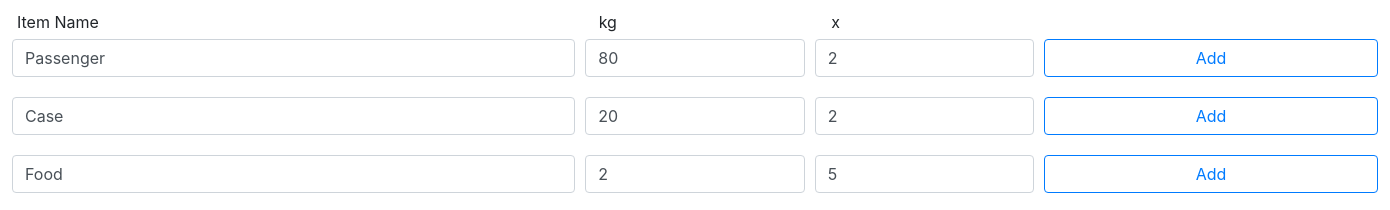
it: Load Adder › Marks the load as added in the list when its added, even if you change its name
Replace the text in the 2nd field with placeholder "Item Name" with "Bags": (294, 116) [12,97,575,135]
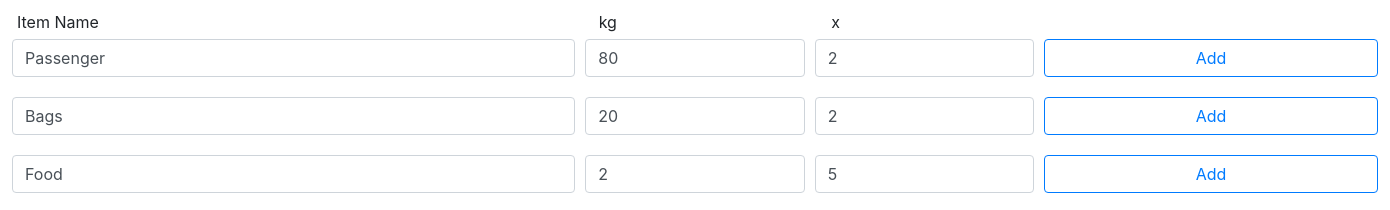
Click the 2nd button with test id "btn-load-off": click(1211, 116) [1044,97,1378,135]
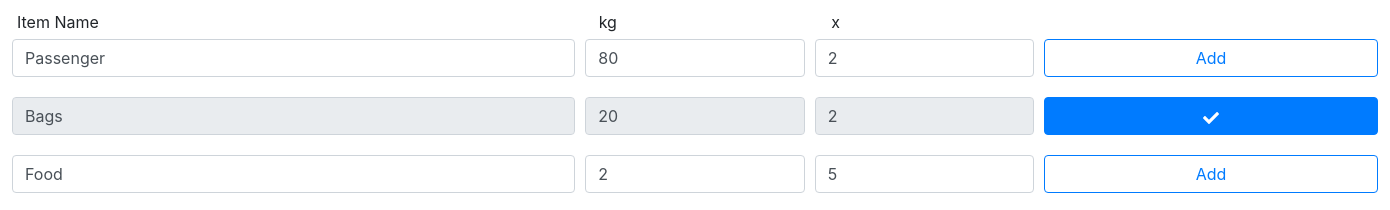
Expected: the number of fields with placeholder "Item Name" is 3, [12,39,575,77]; [12,97,575,135]; [12,155,575,193]
Now the number of buttons with test id "btn-load-on" is 1, box [1044,97,1378,135]
Now the number of buttons with test id "btn-load-off" is 2, box [1044,39,1378,77]; [1044,155,1378,193]
